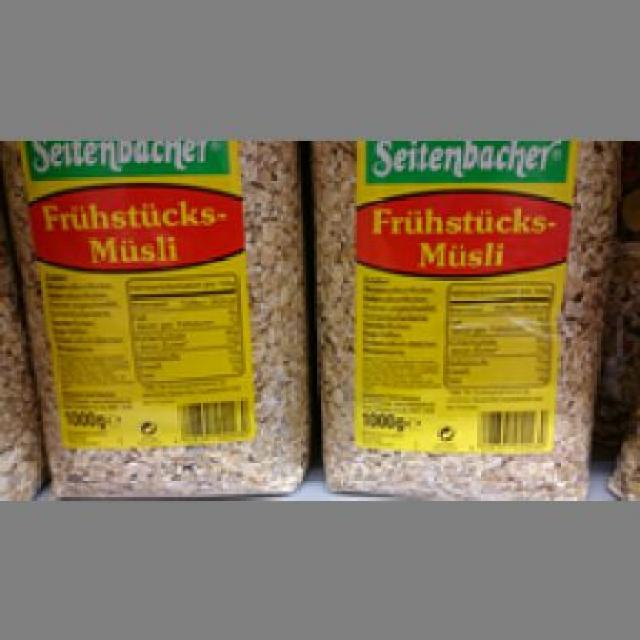Cereal: (305, 137, 618, 497), (0, 138, 315, 492)
